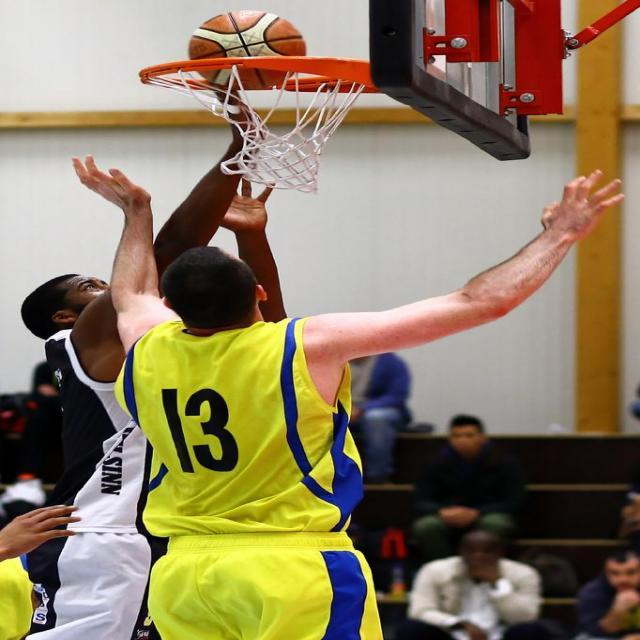rim: (193, 9, 303, 87)
